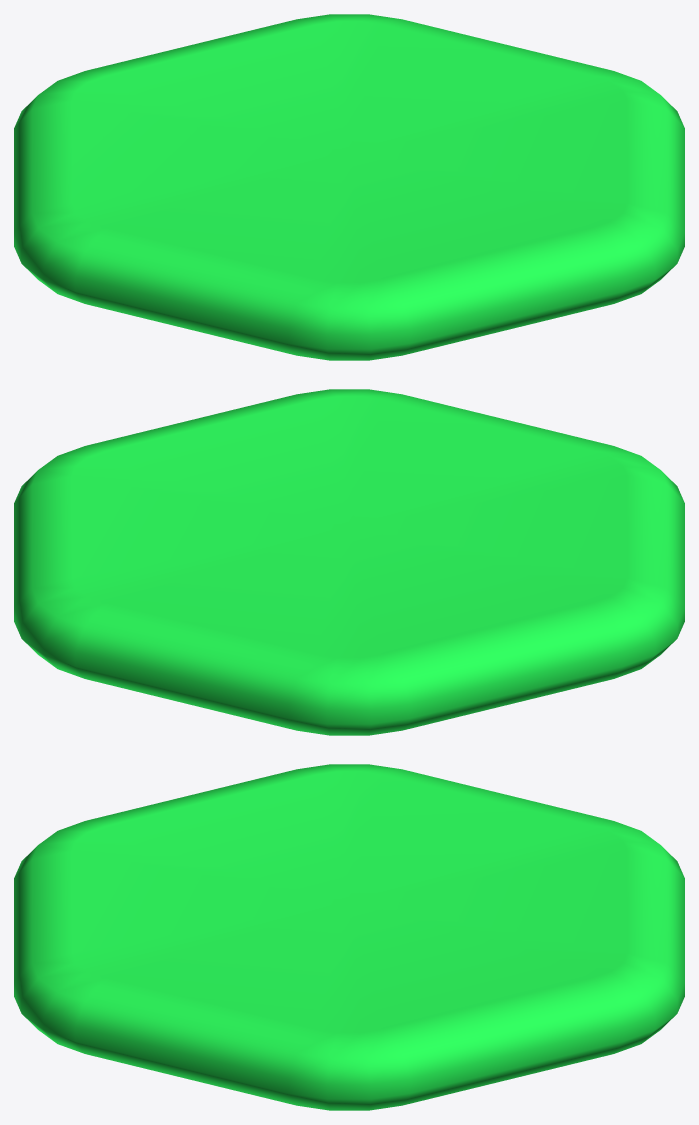
The model's file is Hex_Green.fbx.
3 views of the same model, one above another, from view 1: azimuth 30°, elevation 25°; view 2: azimuth 150°, elevation 25°; view 3: azimuth 270°, elevation 25° (orthographic).
Visible parts, largest first — view 1: SM_Green; view 2: SM_Green; view 3: SM_Green.
Boxes of the visible parts, x1,y1,x2,y2 form: SM_Green: (14,14,684,360); SM_Green: (14,389,684,735); SM_Green: (14,764,684,1110).
Size of the model in its own units: 218 by 23.58 by 200.
1 material, 1 textured.
